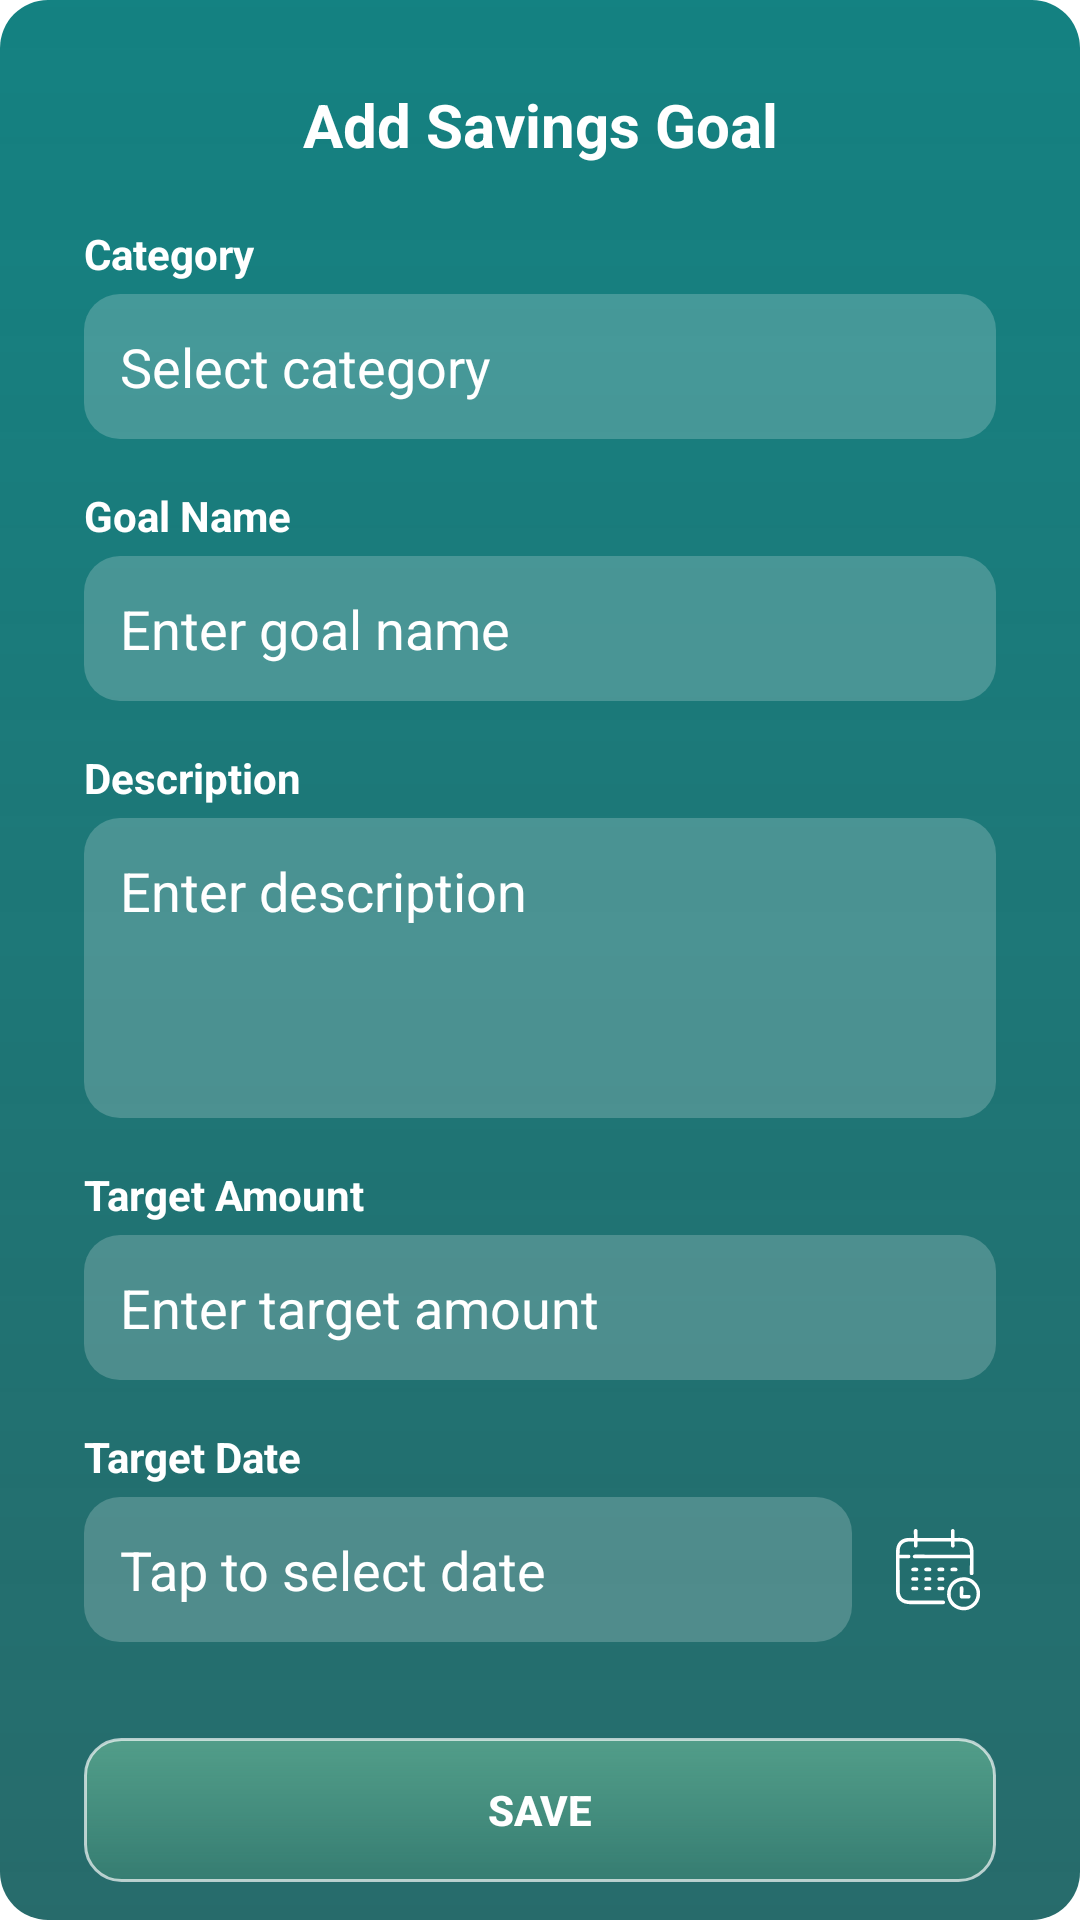

Locate icon controls on the screen. Image size 1080*1920, boxes as box=[x1, y1, x2, y2].
Pick date: box=[896, 1529, 980, 1611]
